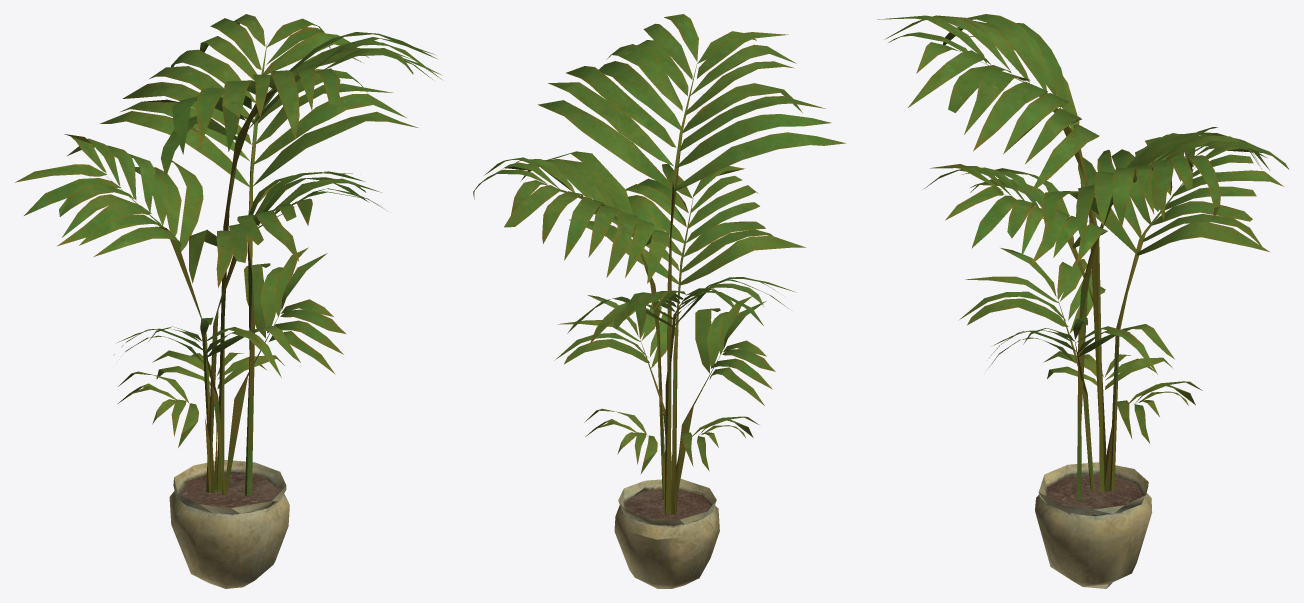
File: plant-potted-large.lod1.glb
The picture shows the model from 3 angles, left to right: view 1: azimuth 30°, elevation 25°; view 2: azimuth 150°, elevation 25°; view 3: azimuth 270°, elevation 25°; orthographic projection. The views are drawn at different scales.
Parts seen in each view (by area): view 1: plant-potted-large; view 2: plant-potted-large; view 3: plant-potted-large.
Boxes of the visible parts, x1,y1,x2,y2 form: plant-potted-large: [15, 14, 443, 588]; plant-potted-large: [473, 14, 845, 588]; plant-potted-large: [877, 14, 1289, 588].
Bounding box in the file's own units: 0.6349 × 1.02 × 0.6806.
Materials: 1 (1 with a texture image).
